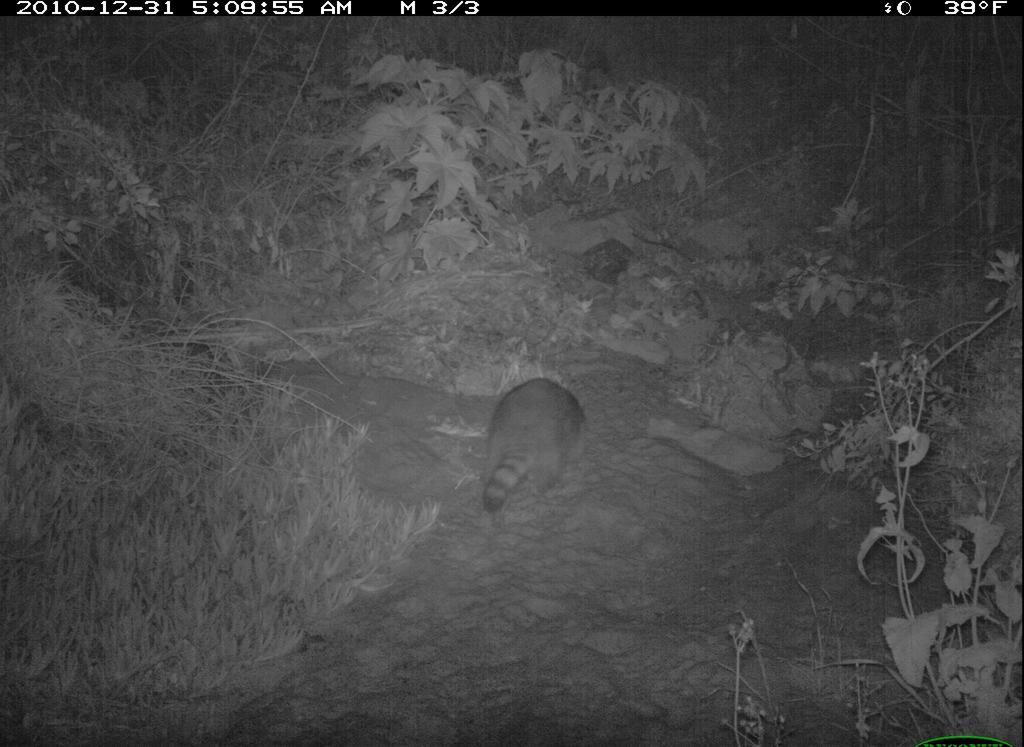raccoon: (474, 373, 601, 520)
